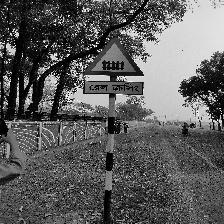Rail-crossing: (82, 39, 145, 96)
